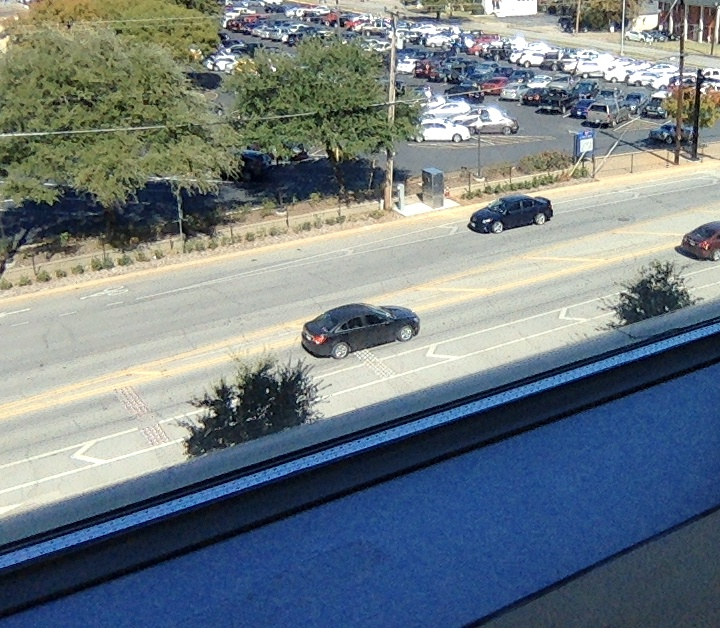car: (300, 300, 420, 361)
